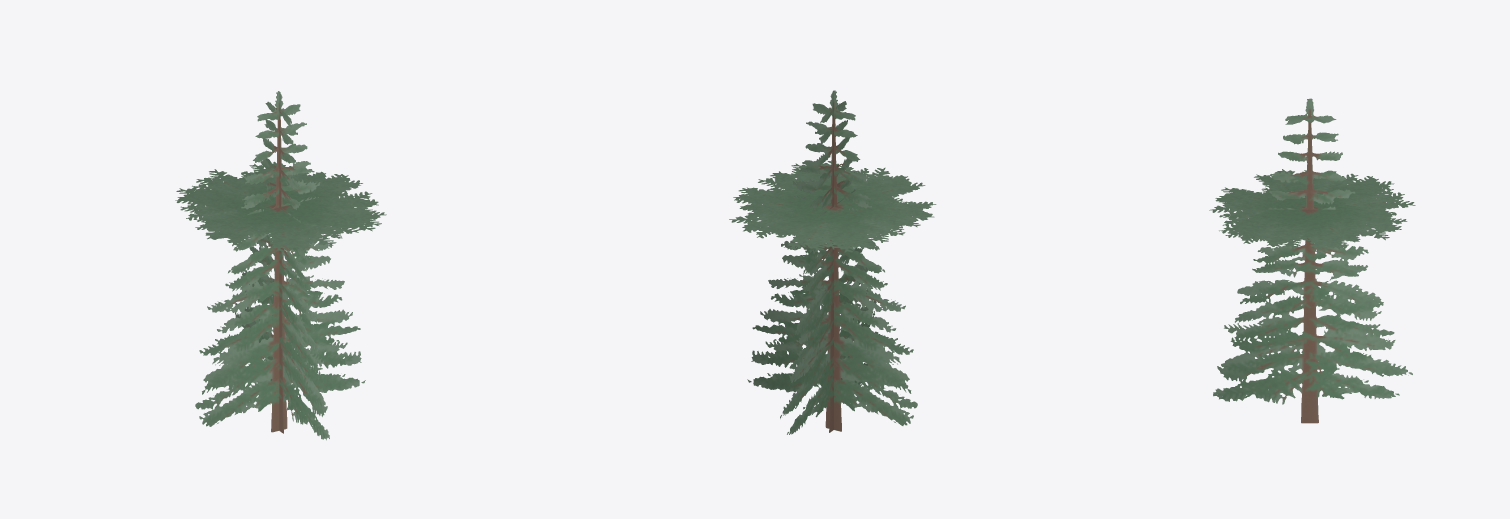
Rendered from pine_3_far.glb.
The picture shows the model from 3 angles, left to right: view 1: azimuth 30°, elevation 25°; view 2: azimuth 150°, elevation 25°; view 3: azimuth 270°, elevation 25°; orthographic projection. The views are drawn at different scales.
Parts seen in each view (by area): view 1: pine_3_far; view 2: pine_3_far; view 3: pine_3_far.
Boxes of the visible parts, box(x1,y1,x2,y2) form: pine_3_far: box(175, 91, 386, 440); pine_3_far: box(729, 90, 936, 434); pine_3_far: box(1209, 98, 1415, 423).
Size of the model in its own units: 12.47 by 12.47 by 12.47.
1 material, 1 textured.
